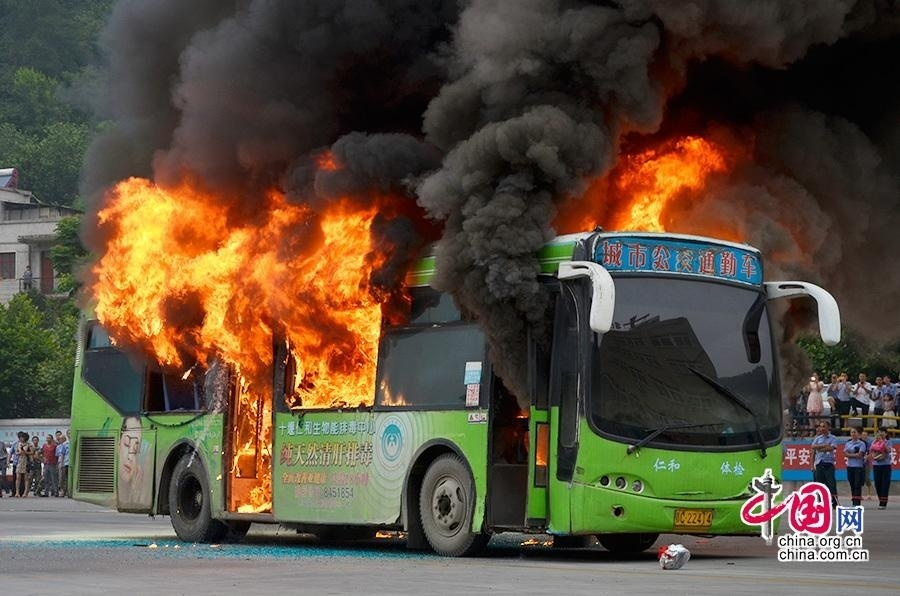fire: (94, 160, 393, 502), (595, 135, 729, 236)
